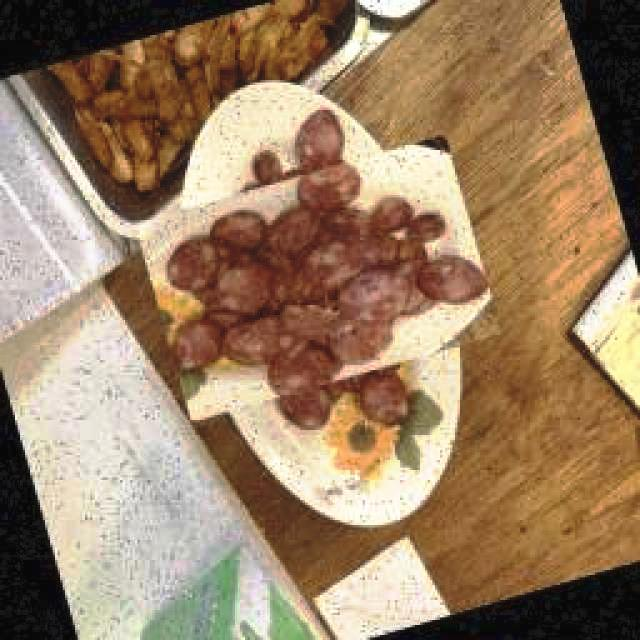chinese_sausage: (163, 108, 489, 431)
